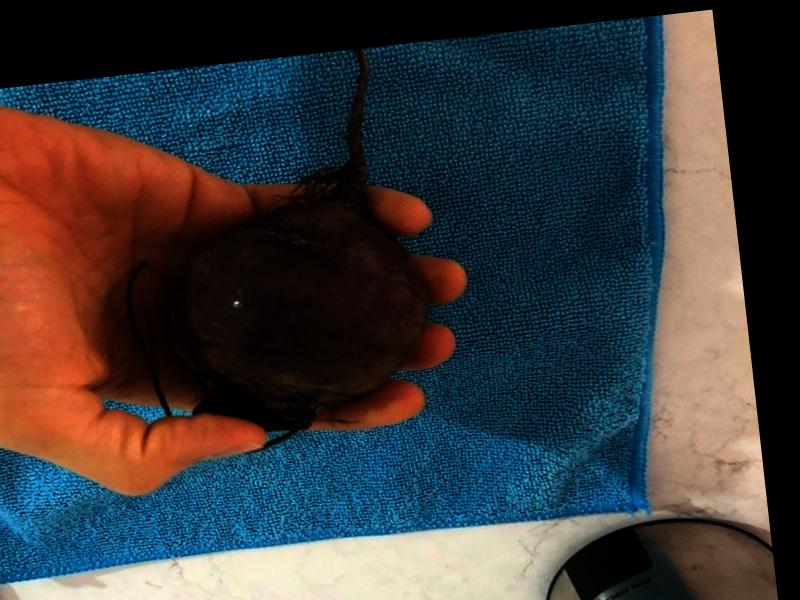Beet: (102, 43, 444, 463)
